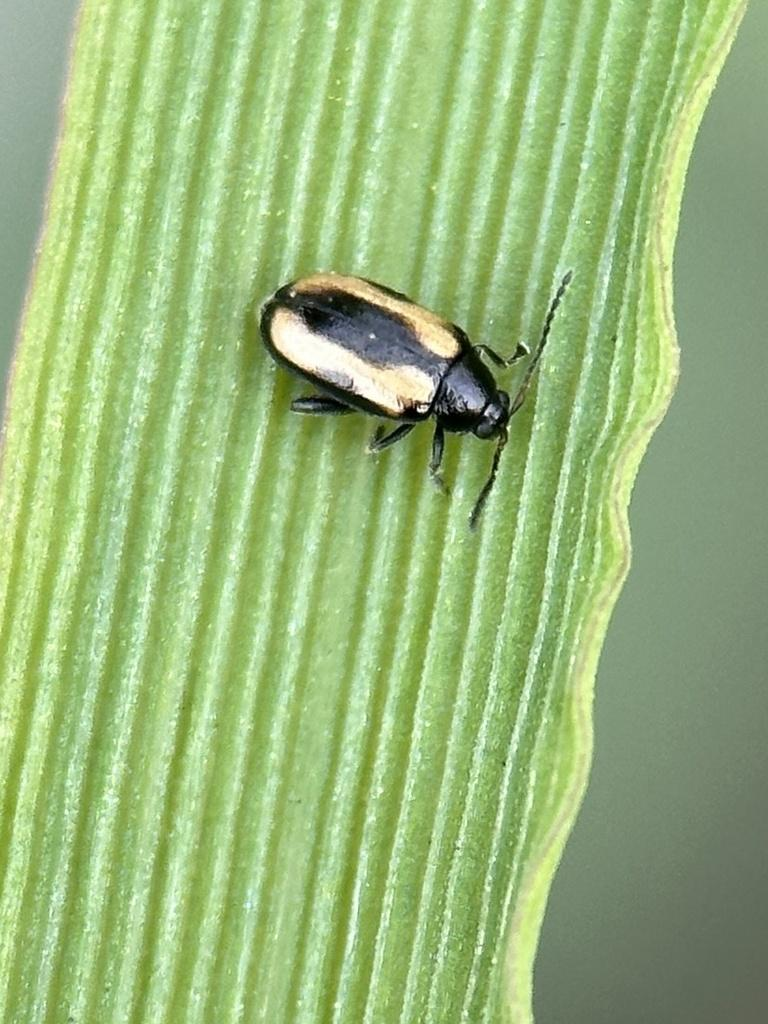flea_beetle: (191, 177, 642, 598)
